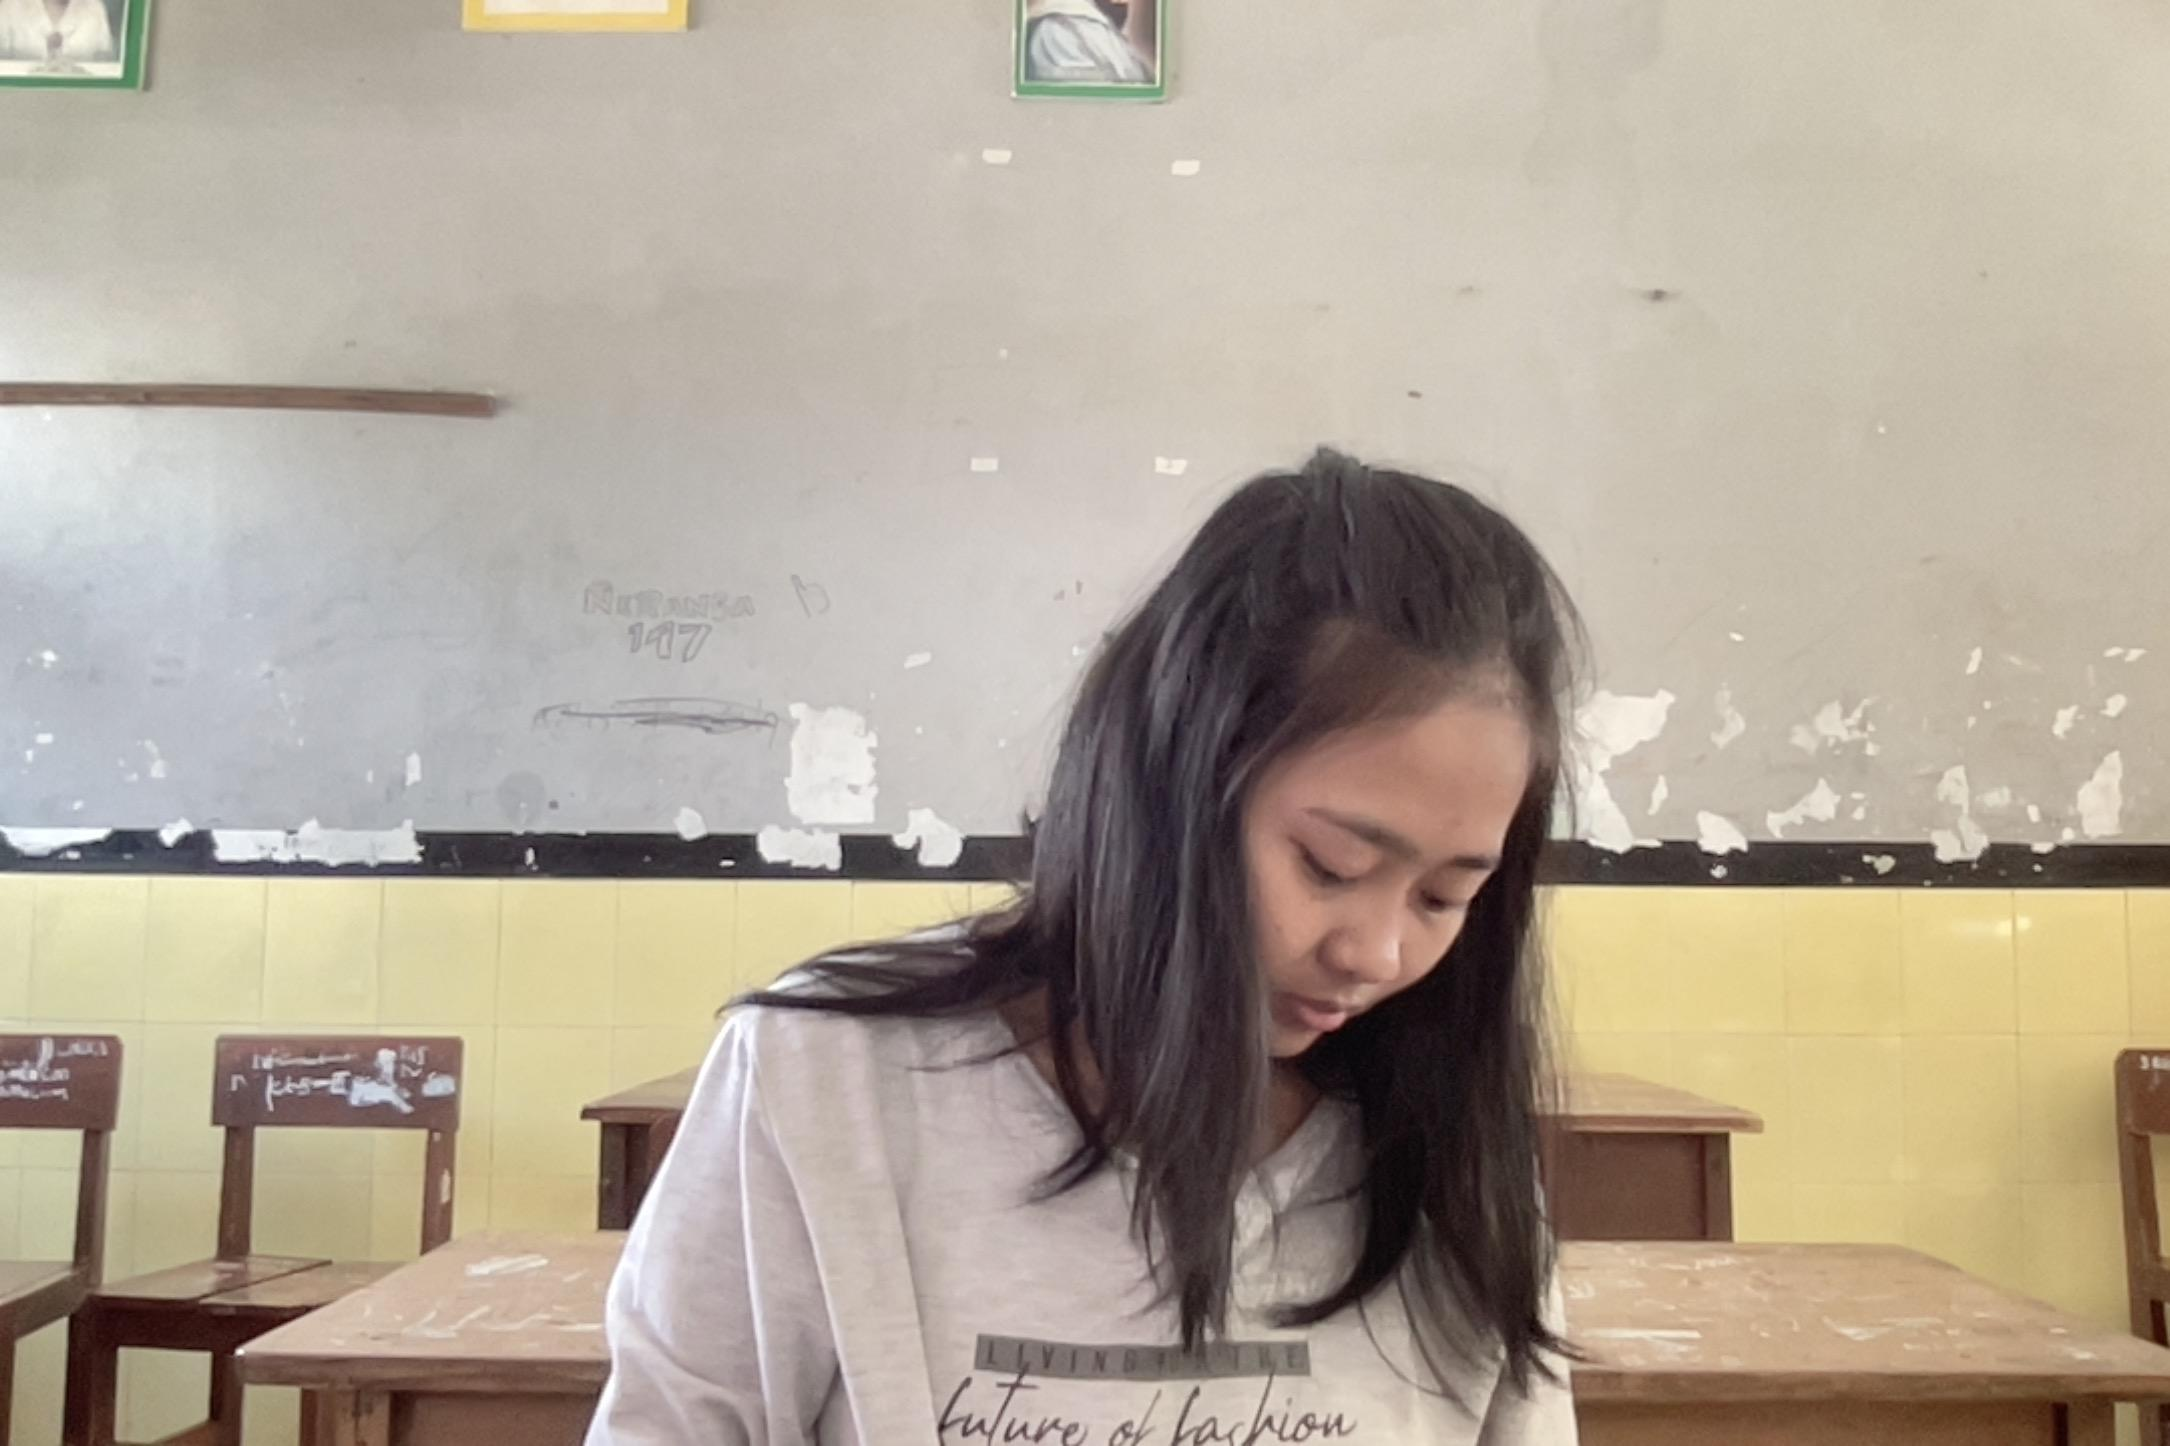cheating: (531, 391, 1701, 1446)
